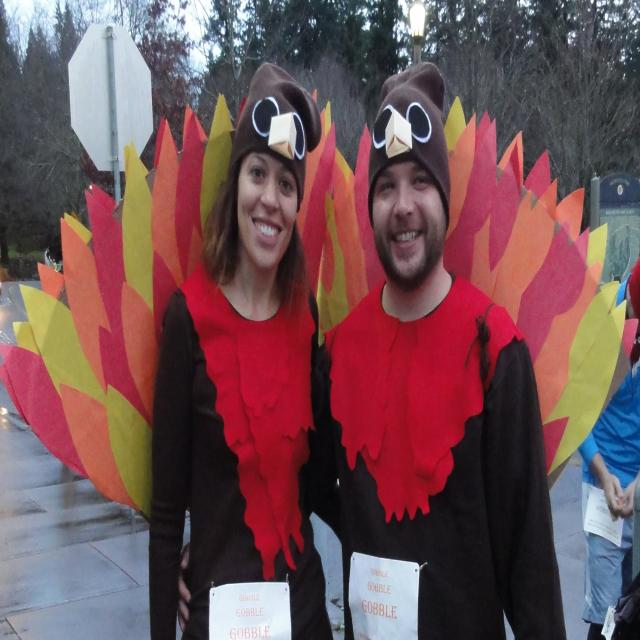body: (172, 54, 568, 639), (148, 59, 343, 640), (577, 254, 640, 640), (594, 469, 640, 640)
